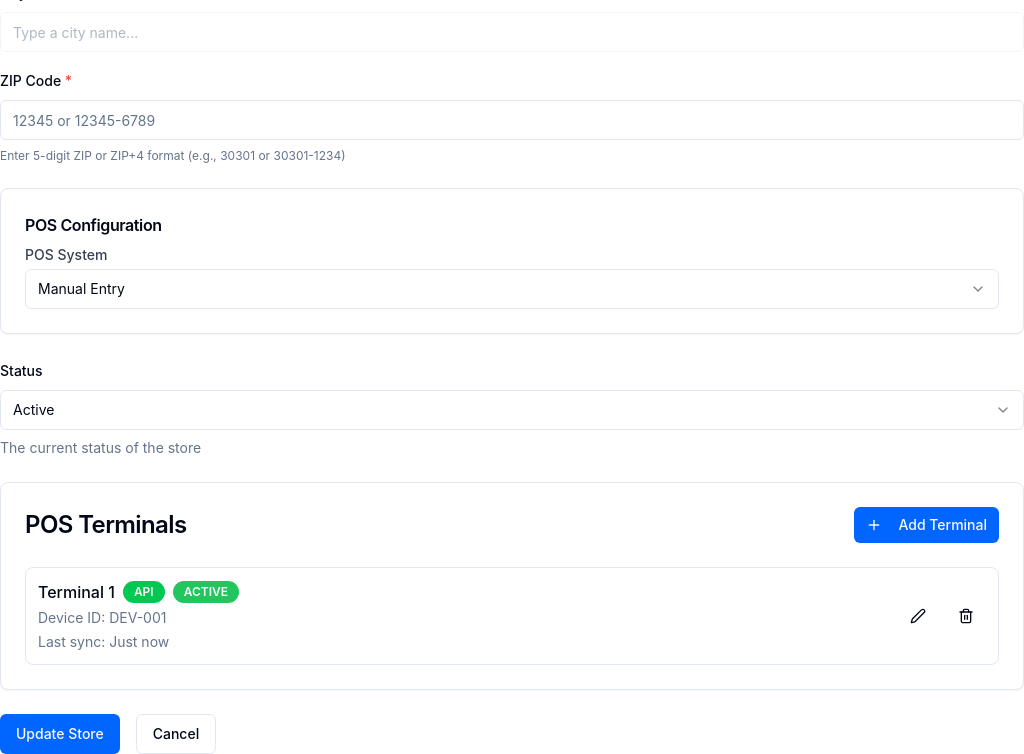
Test: Terminal Management Component › Terminal Form - POS Type Selection (AC #2) › [P1] Should pre-fill connection type and vendor when editing terminal
(page scrolled)
Click the button named "Edit Terminal 1" at point(918, 616), box [898, 598, 938, 634]
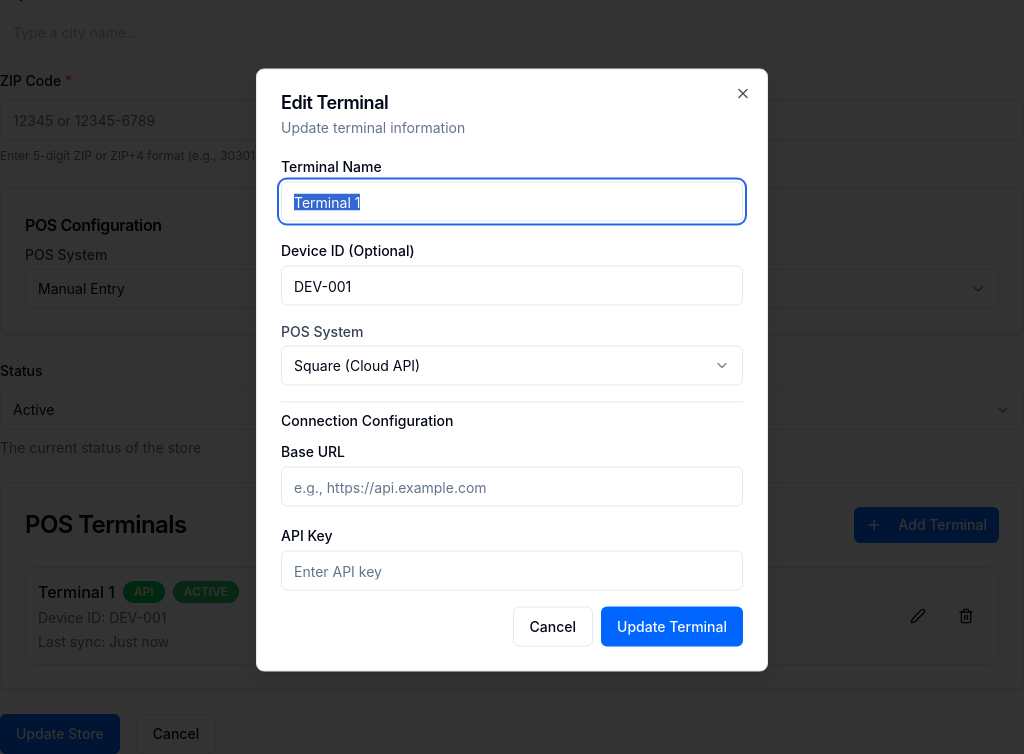
Now the heading "Edit Terminal" is shown, box [281, 92, 388, 112]
Now the dropdown with test id "edit-terminal-pos-type-selector" shows "Square", box [281, 346, 743, 386]
